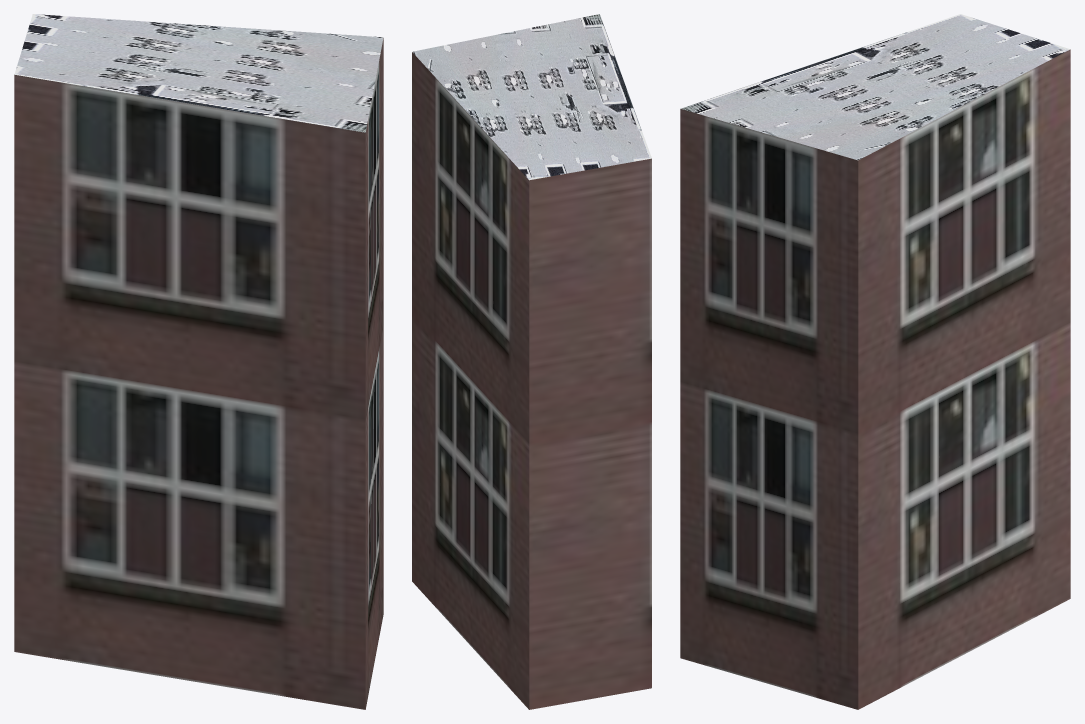
File: ResTex__1327.fbx
3 renders of one model, left to right at view 1: azimuth 30°, elevation 25°; view 2: azimuth 150°, elevation 25°; view 3: azimuth 270°, elevation 25°, orthographic. The views are drawn at different scales.
Parts seen in each view (by area): view 1: CityEngineMaterial_12_m, CityEngineMaterial_m; view 2: CityEngineMaterial_12_m, CityEngineMaterial_m; view 3: CityEngineMaterial_12_m, CityEngineMaterial_m.
Boxes of the visible parts, left/top/right/bottom form: CityEngineMaterial_12_m: left=14, top=38, right=383, bottom=709; CityEngineMaterial_m: left=14, top=14, right=383, bottom=132; CityEngineMaterial_12_m: left=412, top=52, right=651, bottom=709; CityEngineMaterial_m: left=412, top=14, right=651, bottom=180; CityEngineMaterial_12_m: left=680, top=49, right=1070, bottom=709; CityEngineMaterial_m: left=681, top=14, right=1069, bottom=160.
Size of the model in its own units: 3.43 by 6 by 3.86.
Materials: 2 (2 with a texture image).
